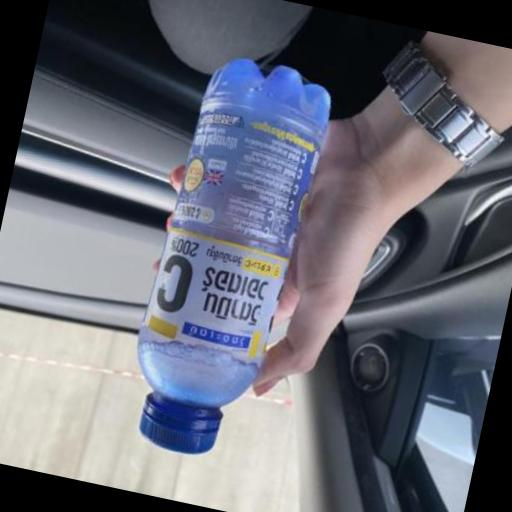Coca: (105, 38, 354, 480)
